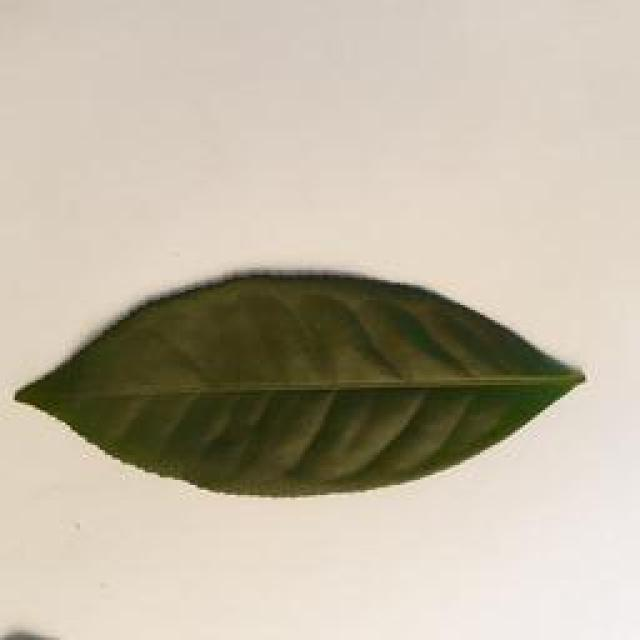Healthy: (7, 268, 589, 501)
